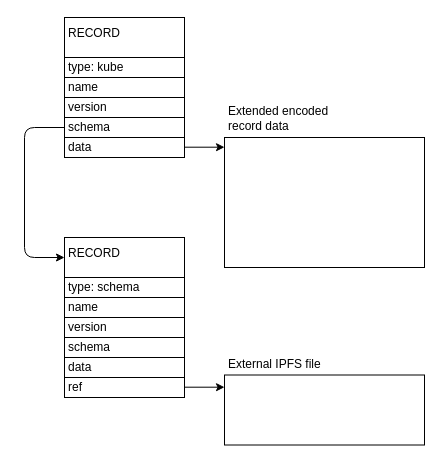
This 442x463 diagram has some shape labels left out. The box of each missing label's shape, as (x1, y1, x2, y2) in pixels:
message KubeConfig { repeated string services = 1; }: (224, 374, 424, 445)
{ services: [ 'wns-node', 'ipfs', 'signal' ] }: (224, 136, 424, 268)
